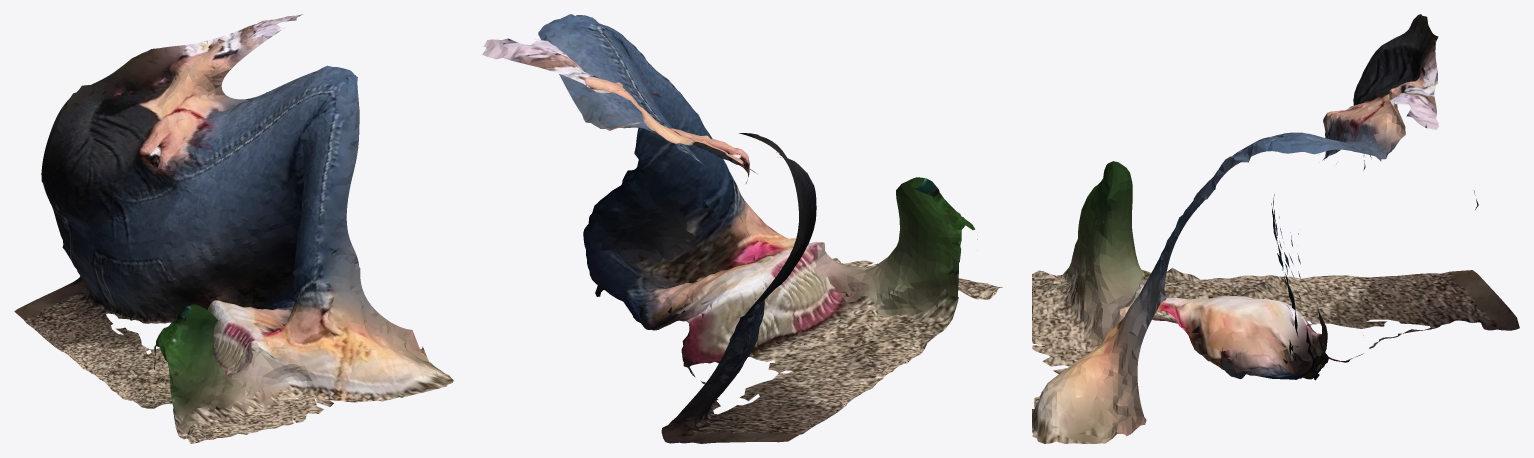
3 renders of one model, left to right at view 1: azimuth 30°, elevation 25°; view 2: azimuth 150°, elevation 25°; view 3: azimuth 270°, elevation 25°, orthographic. The views are drawn at different scales.
Bounding box in the file's own units: 0.4757 × 0.4352 × 0.6003.
Materials: 2 (2 with a texture image).
